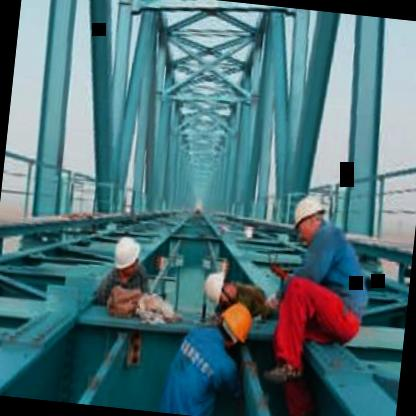helmet: (214, 296, 256, 350), (290, 192, 330, 244), (197, 270, 240, 310), (109, 232, 144, 280)
